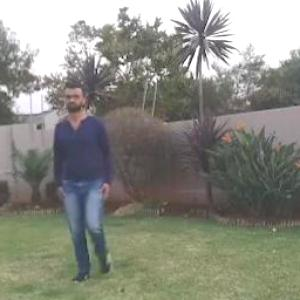follow: (59, 90, 109, 266)
